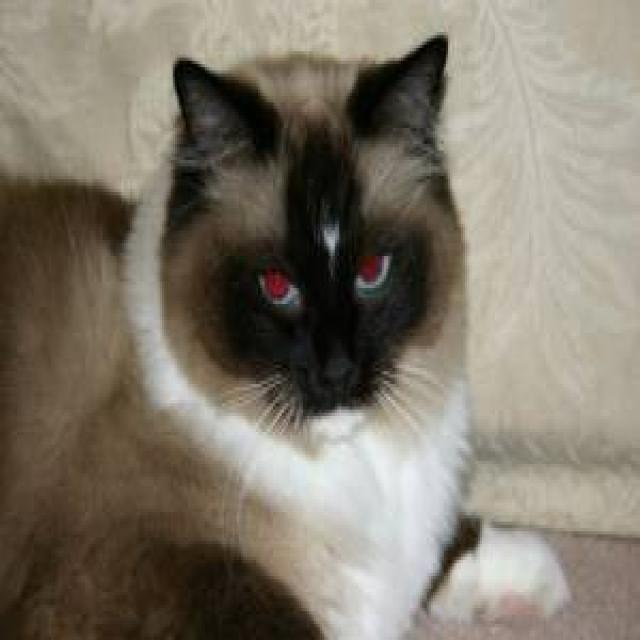Ragdoll: (160, 22, 471, 453)
